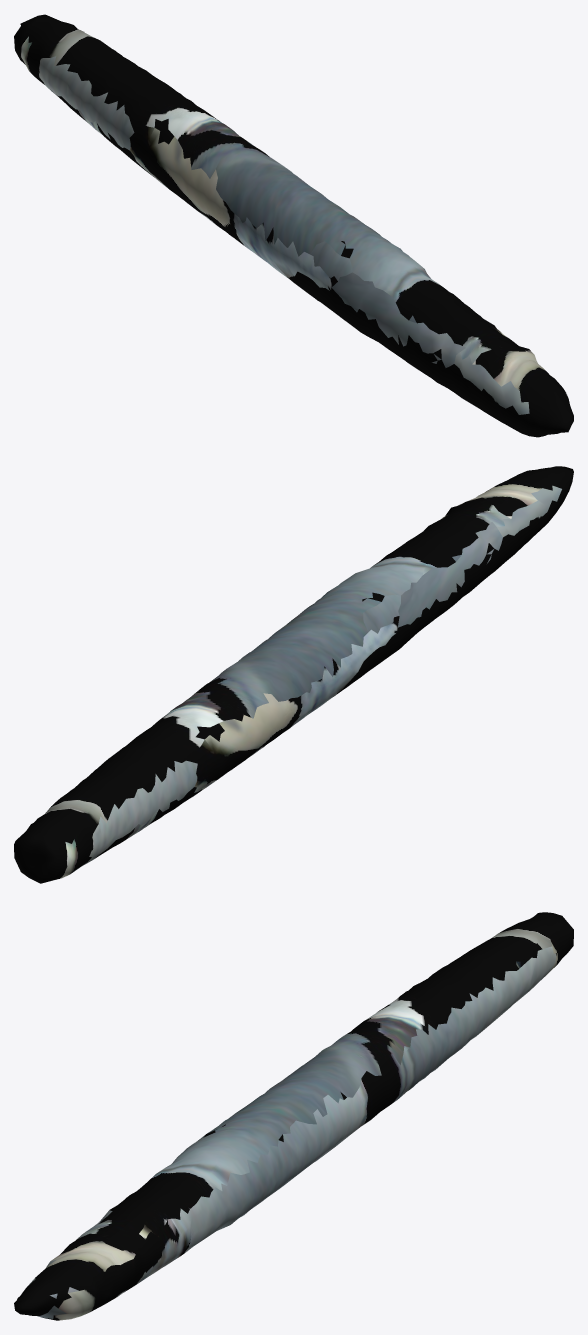
The model's file is scan_align.obj.
3 views of the same model, one above another, from view 1: azimuth 30°, elevation 25°; view 2: azimuth 150°, elevation 25°; view 3: azimuth 330°, elevation 25° (orthographic). The views are drawn at different scales.
Size of the model in its own units: 0.00988 by 0.0099 by 0.1202.
